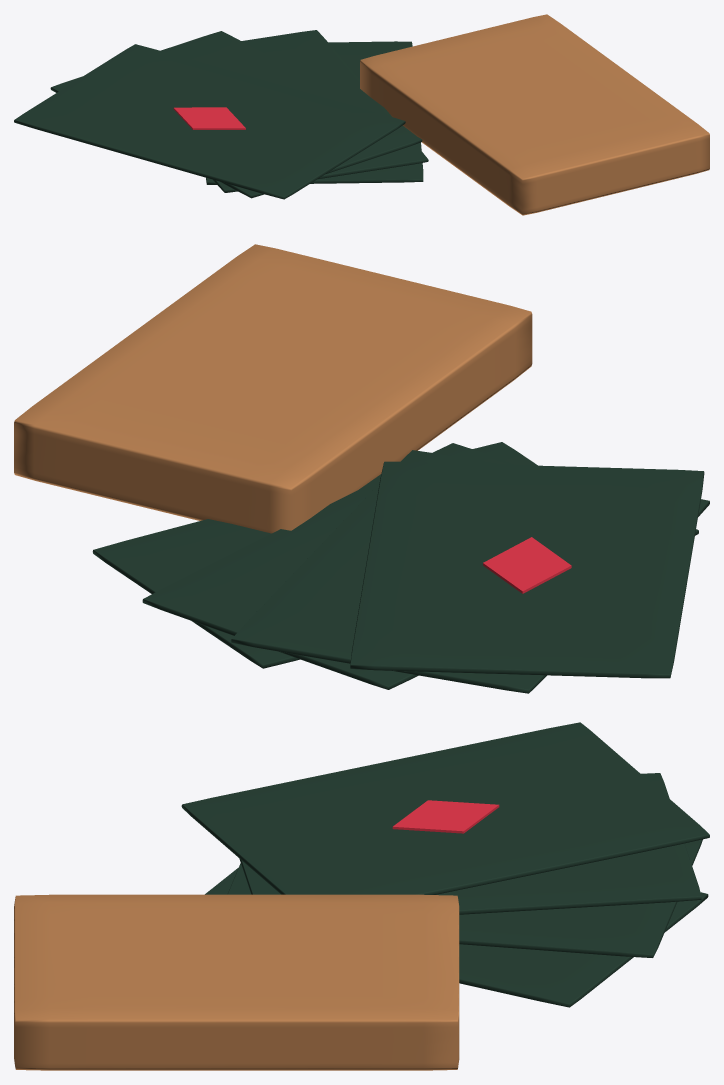
The model's file is DiceDashCards.obj.
The picture shows the model from 3 angles, top to bottom: view 1: azimuth 30°, elevation 25°; view 2: azimuth 150°, elevation 25°; view 3: azimuth 270°, elevation 25°; orthographic projection. The views are drawn at different scales.
Visible parts, largest first — view 1: Face, Back, Mark; view 2: Face, Back, Mark; view 3: Face, Back, Mark.
Part boxes in pixels (x1=…): Face: x1=14, y1=30, x2=428, y2=199; Back: x1=360, y1=14, x2=709, y2=215; Mark: x1=173, y1=107, x2=245, y2=129; Face: x1=92, y1=442, x2=709, y2=693; Back: x1=14, y1=244, x2=532, y2=533; Mark: x1=483, y1=537, x2=571, y2=593; Face: x1=181, y1=722, x2=709, y2=1007; Back: x1=14, y1=894, x2=459, y2=1070; Mark: x1=392, y1=800, x2=499, y2=833.
Bounding box in the file's own units: 20.71 × 1.6 × 18.75.
